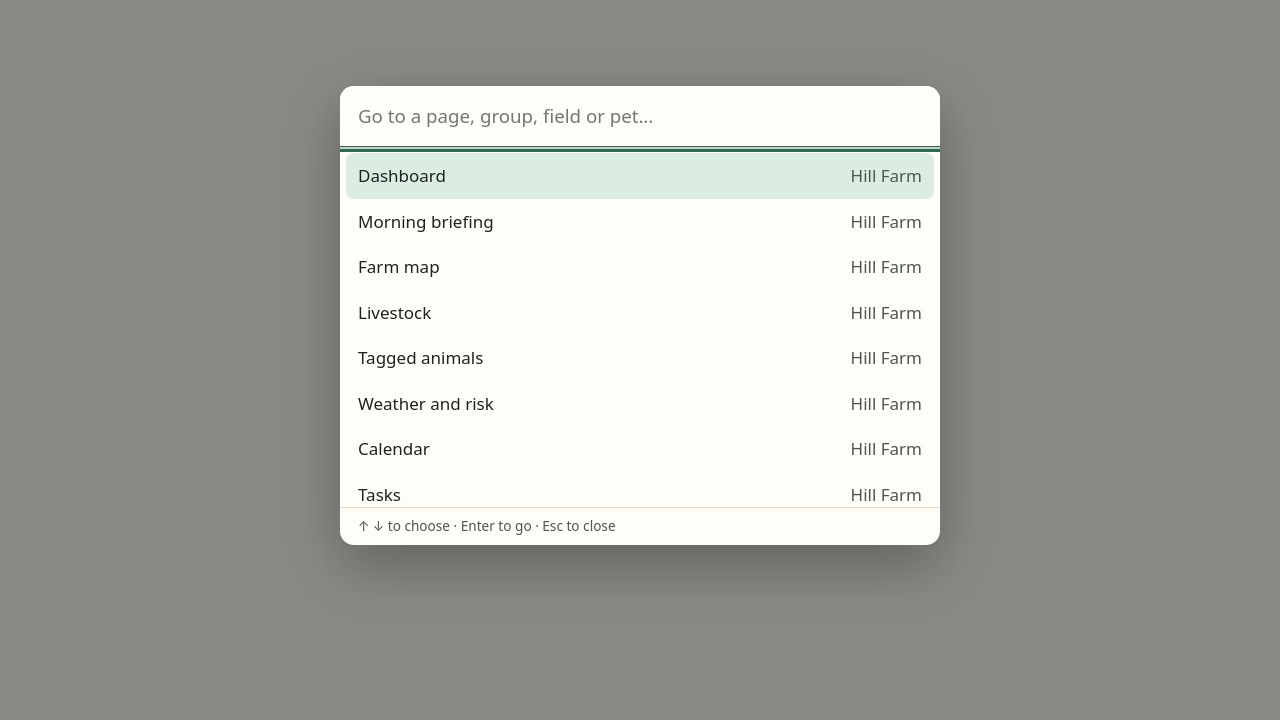
CommandPalette (v3) › filters as you type and goes to the chosen result with Enter
This screenshot has width=1280, height=720.
Expected: the option "Dashboard Hill Farm" is shown, left=346, top=153, right=934, bottom=199
Type "mule" into the dropdown named "Search" at (640, 117), box left=340, top=86, right=940, bottom=147
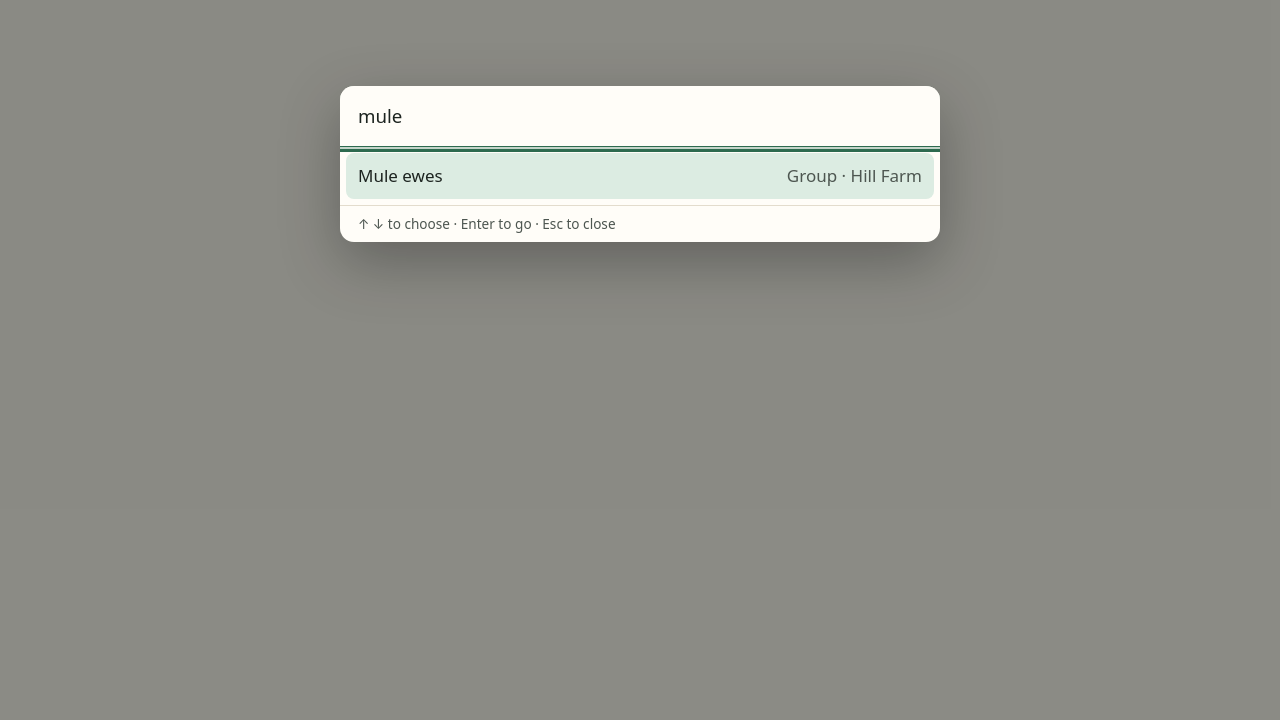
Expected: the number of options is 1, left=346, top=153, right=934, bottom=199
Now the option "Mule ewes Group · Hill Farm" is shown, box left=346, top=153, right=934, bottom=199
Press Enter
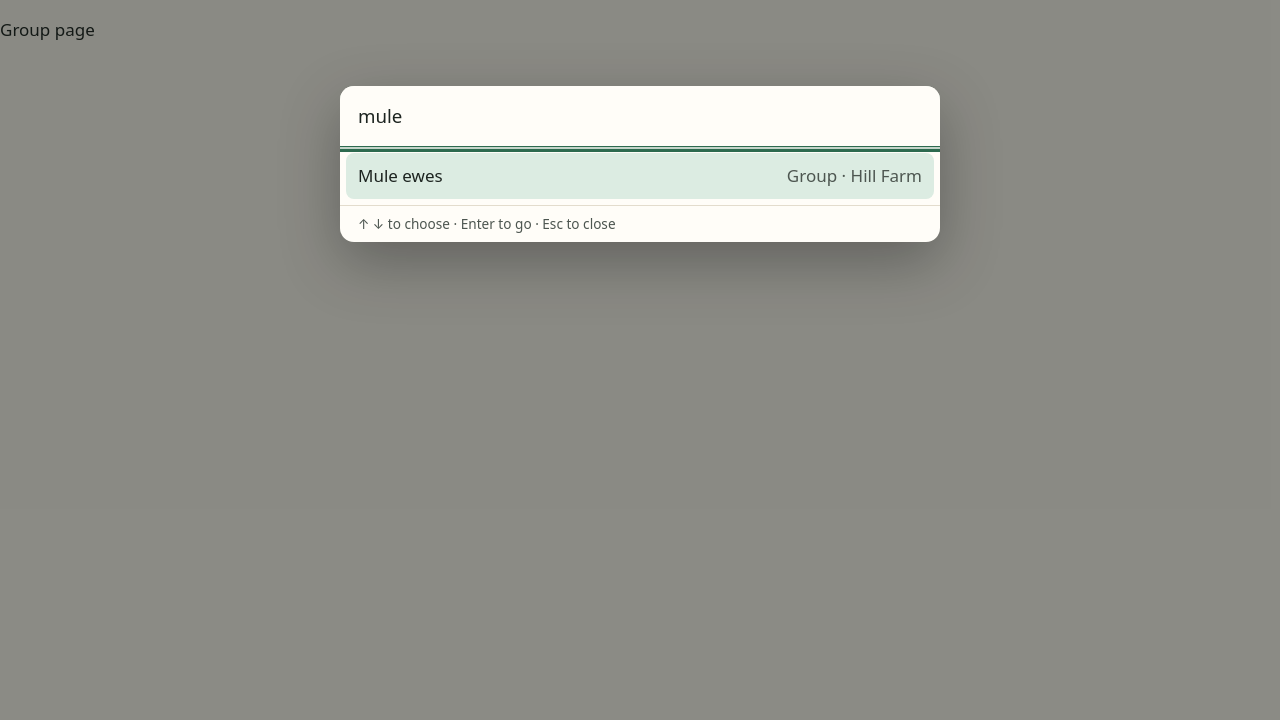
Now the text "Group page" is shown, box left=0, top=18, right=95, bottom=41
